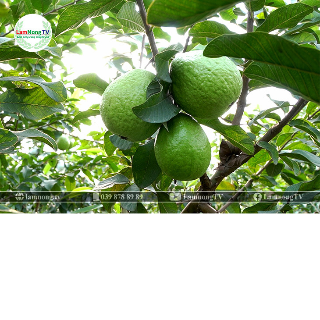oi: (164, 48, 244, 123), (97, 61, 169, 143), (155, 111, 212, 184)
